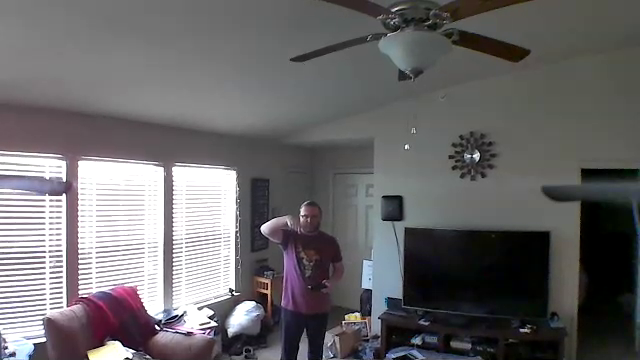down: (283, 211, 305, 238)
